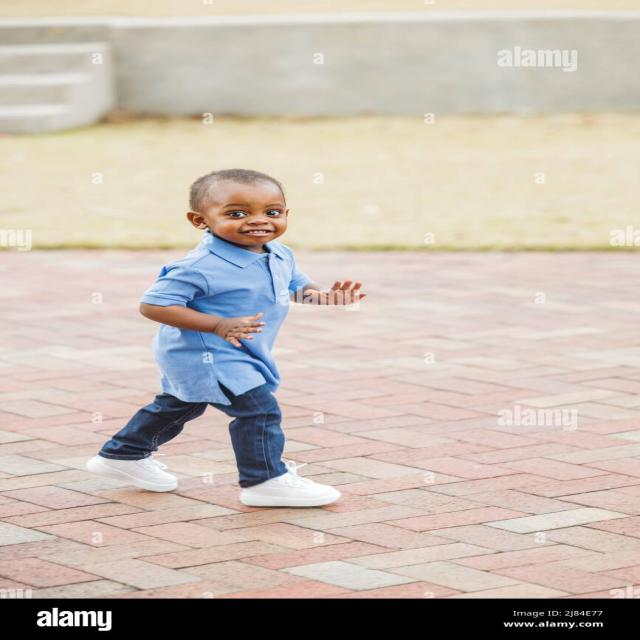Person: (87, 166, 362, 508)
